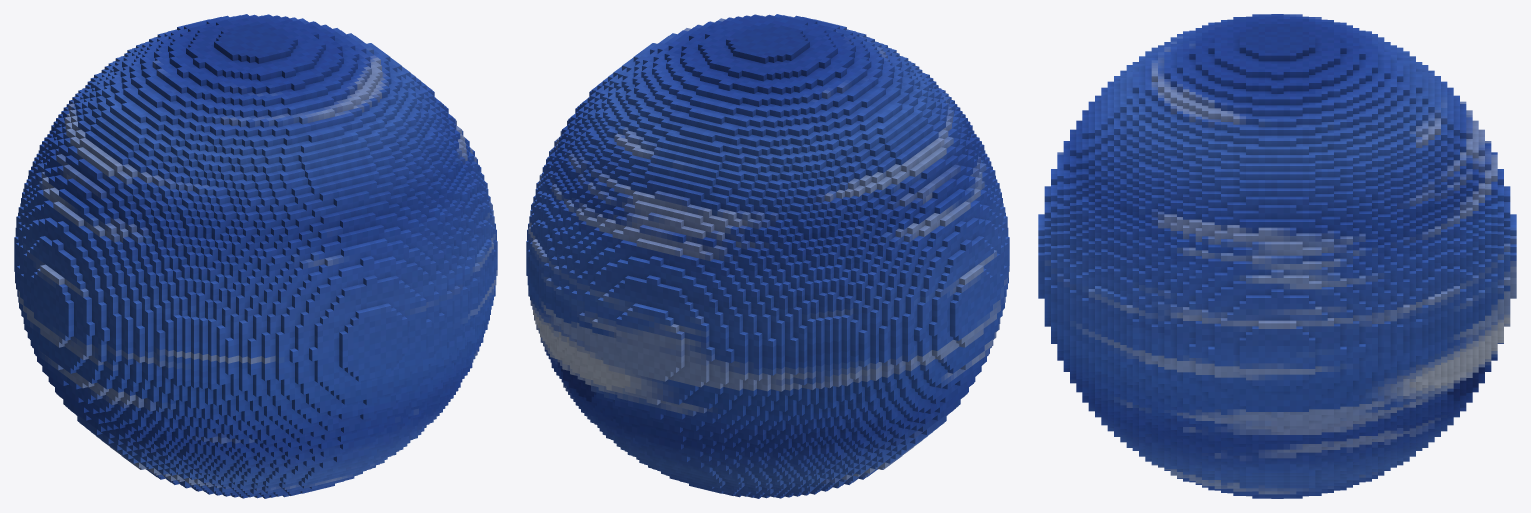
File: neptune_lod0.glb
3 views of the same model, side by side, from view 1: azimuth 30°, elevation 25°; view 2: azimuth 150°, elevation 25°; view 3: azimuth 270°, elevation 25° (orthographic).
Parts seen in each view (by area): view 1: neptune_lod0; view 2: neptune_lod0; view 3: neptune_lod0.
Part boxes in pixels (box(x1,y1,x2,y2)): neptune_lod0: box(14, 14, 497, 498); neptune_lod0: box(526, 14, 1009, 498); neptune_lod0: box(1038, 14, 1516, 498).
Bounding box in the file's own units: 2 × 2 × 2.
